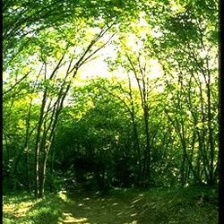neutral: (5, 4, 217, 222)
